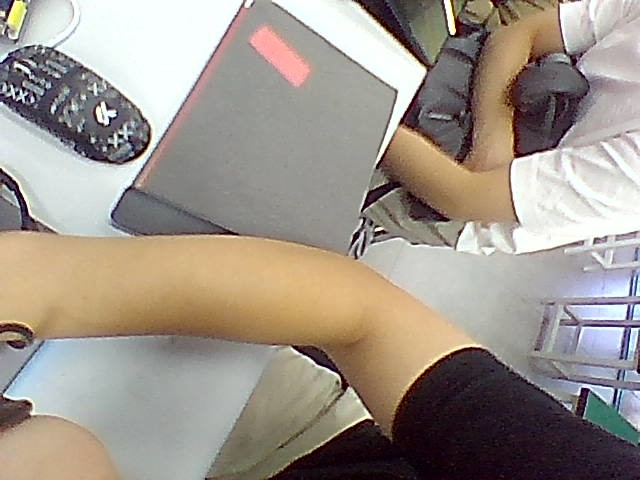card: (250, 25, 310, 87)
